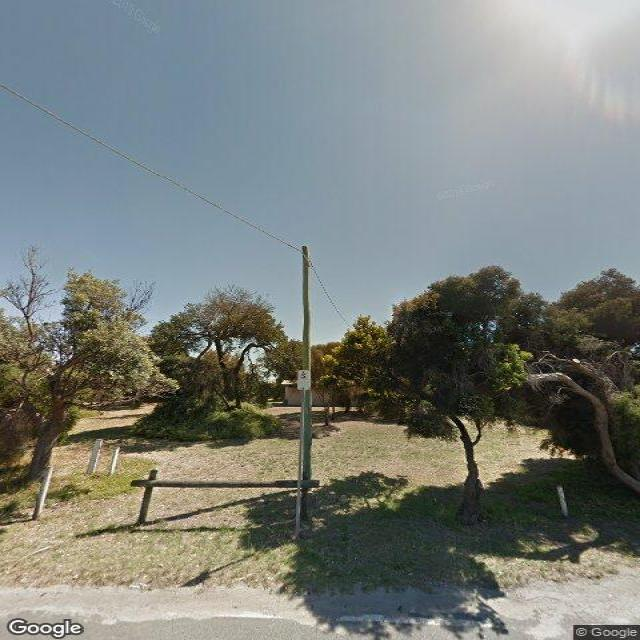timber-pole: (299, 245, 313, 521)
top mount suitable pole: (300, 244, 313, 521)
